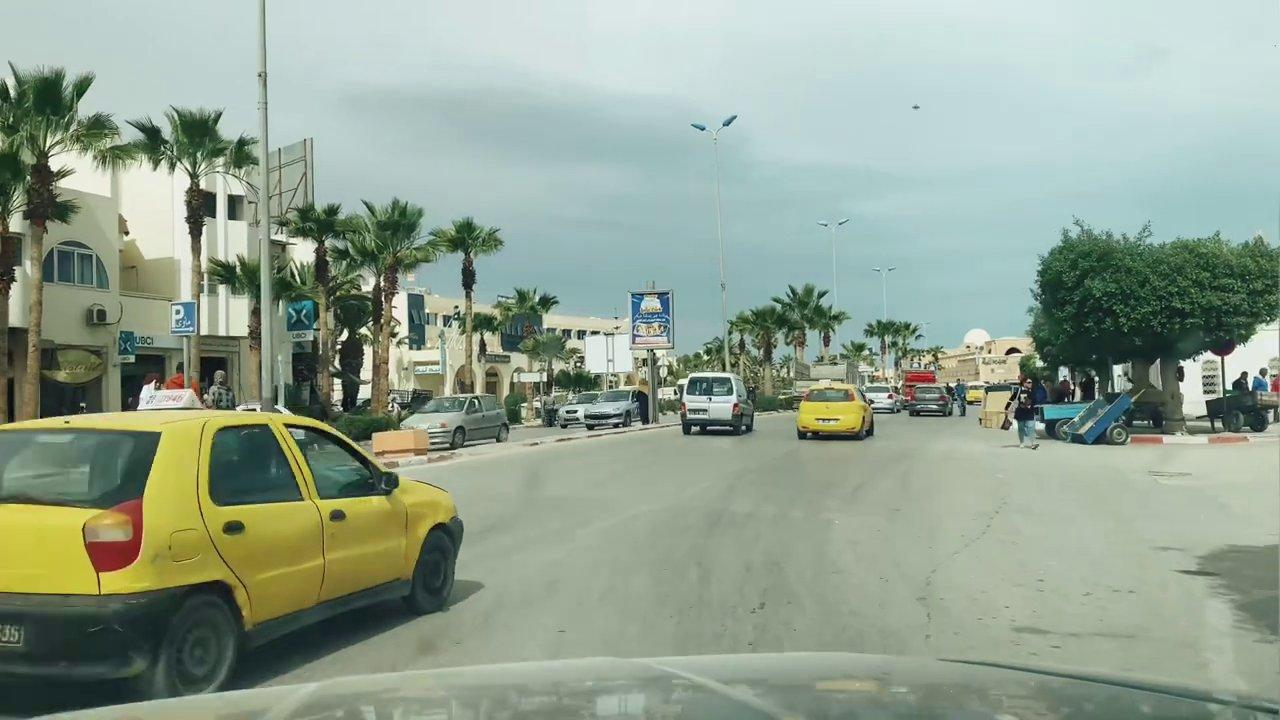parking zone: (169, 300, 201, 337)
